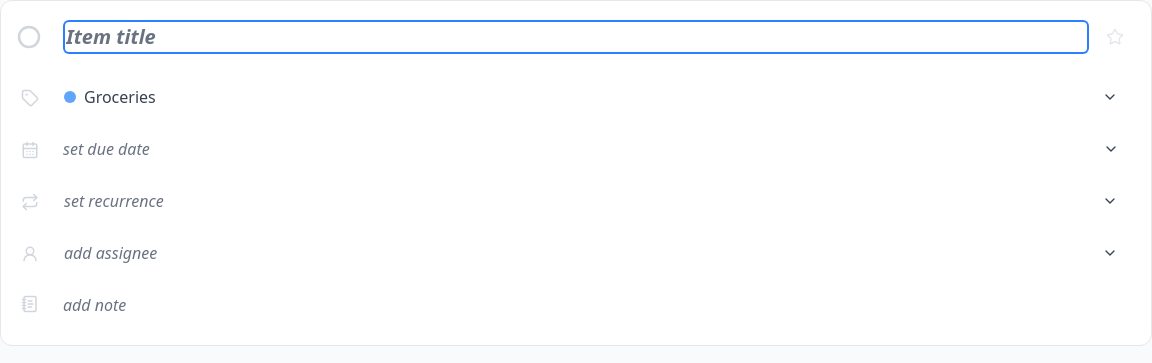
Test: ItemForm › category › resets to configured default after creating an item
Type "Reset category item" into the field with placeholder "Item title" at (576, 37), box [65,22,1087,52]
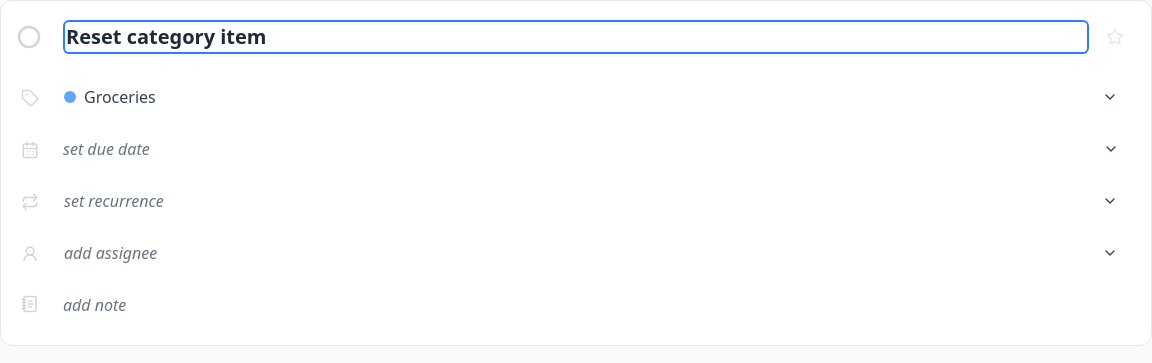
Click the dropdown named "category" at (589, 97), box [84,87,1094,107]
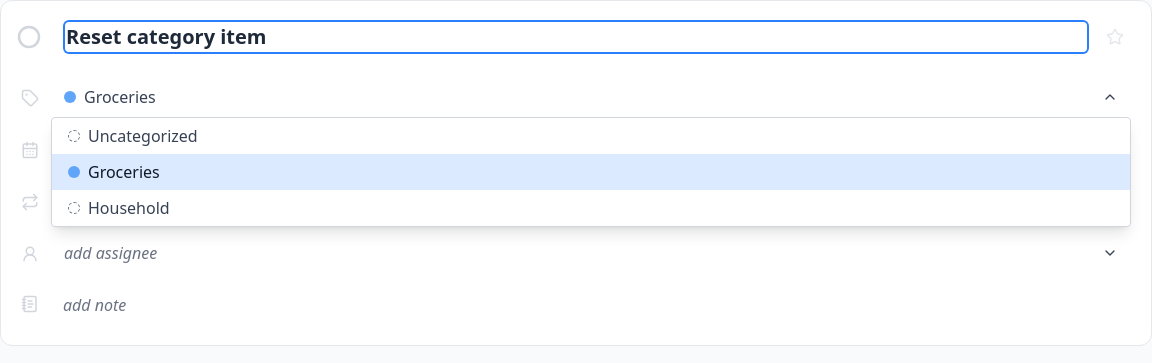
Click the option "Household" at (129, 208), box [52,190,1130,226]
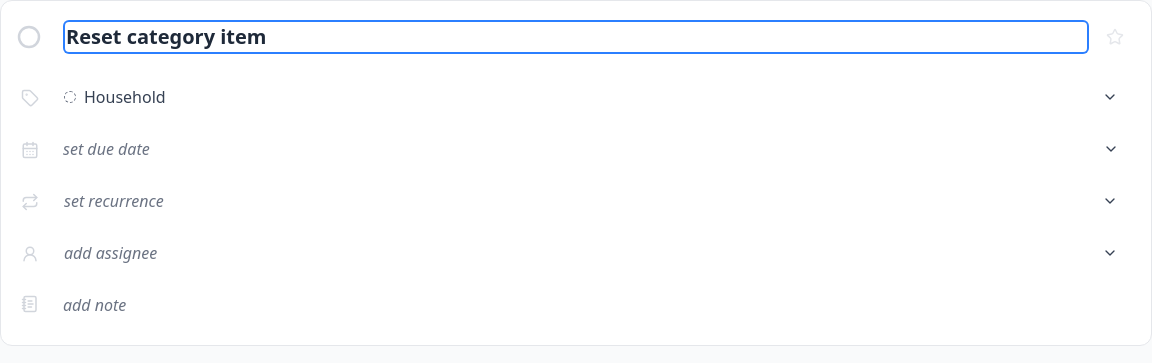
Press Enter in the field named "Item title", box [65,22,1087,52]
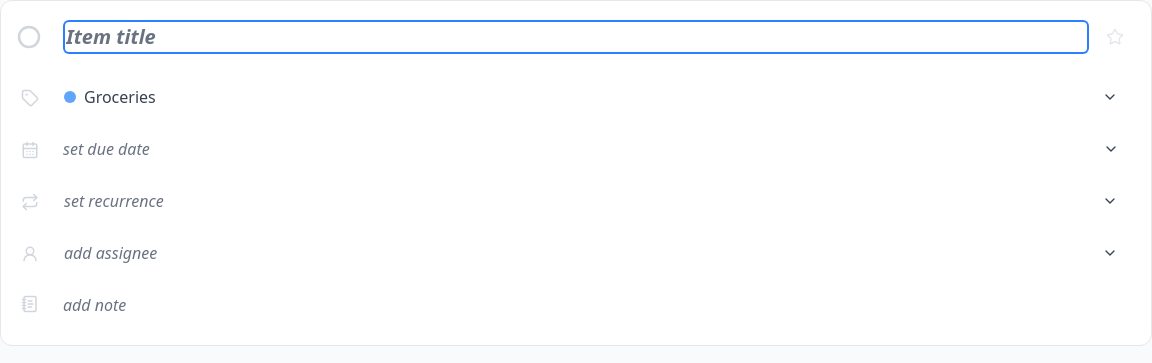
Expected: the dropdown named "category" holds "Groceries", [84,87,1094,107]
